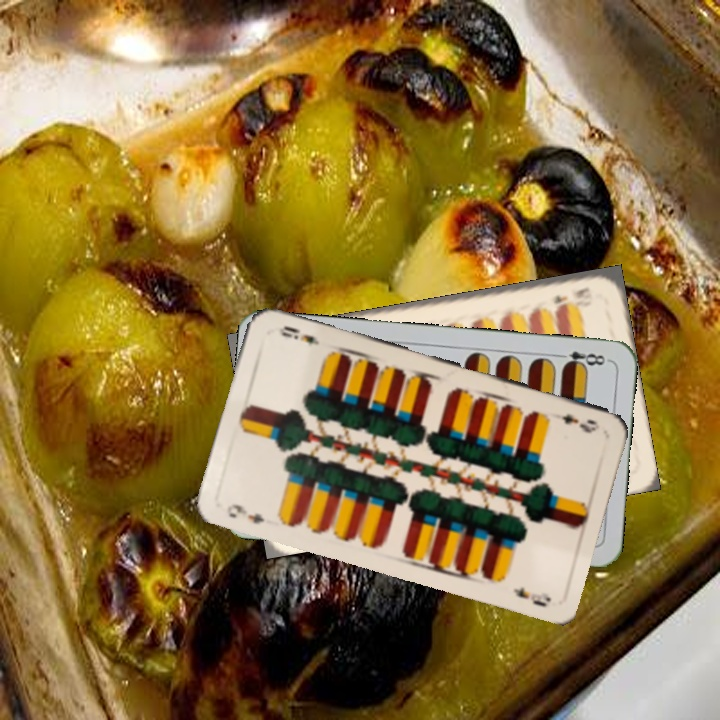E10: (550, 283, 594, 310)
E8: (552, 347, 611, 371)
E9: (223, 499, 268, 526), (557, 409, 603, 434)
